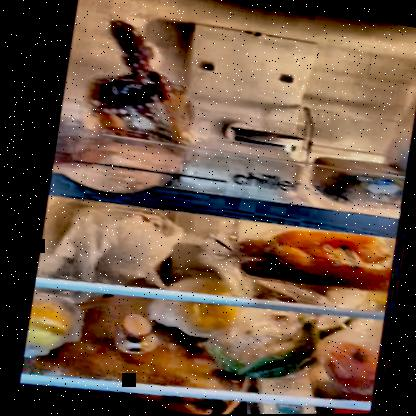butter: (312, 155, 404, 210)
carrot: (233, 221, 394, 292)
cheese: (178, 146, 298, 198)
green_chillies: (217, 312, 322, 382)
lemon: (172, 274, 249, 333), (26, 296, 78, 357)
milk: (252, 381, 329, 414)
tomato: (320, 338, 376, 388)
yoghurt: (229, 121, 305, 156)
